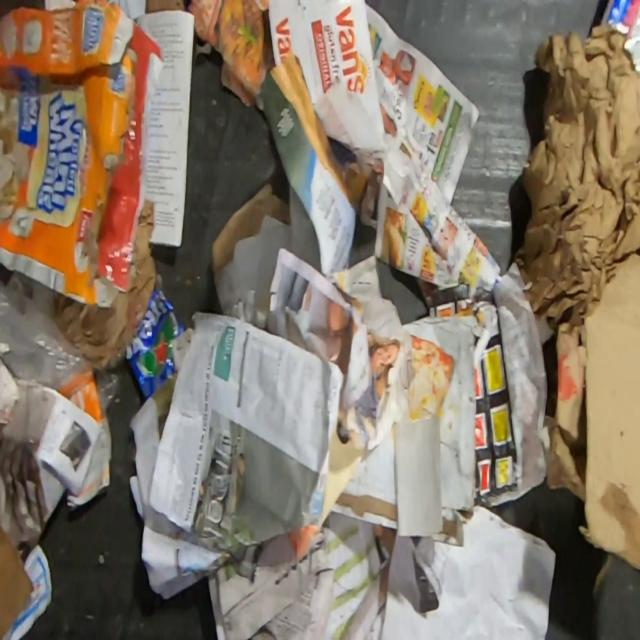cardboard: (0, 0, 164, 306), (579, 250, 640, 572), (211, 182, 291, 278), (547, 321, 586, 497), (0, 517, 36, 640), (592, 552, 616, 592)
metal: (125, 288, 185, 400)
soft_plastic: (0, 279, 120, 413), (602, 0, 640, 81)
